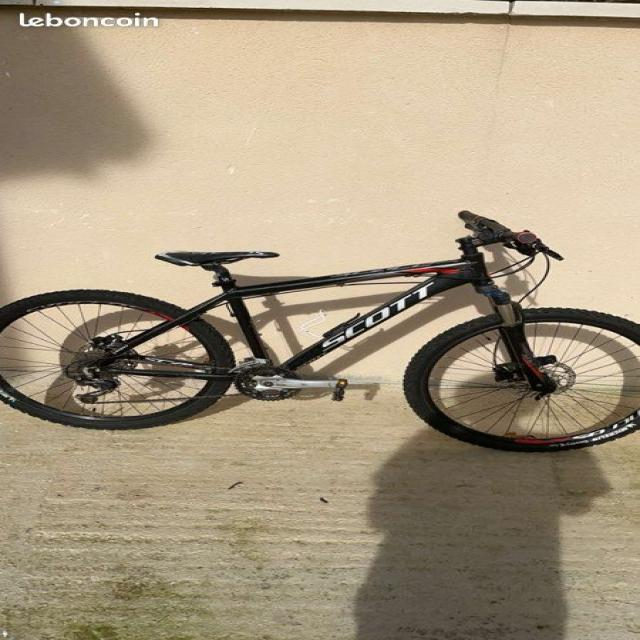Bike: (0, 211, 639, 452)
